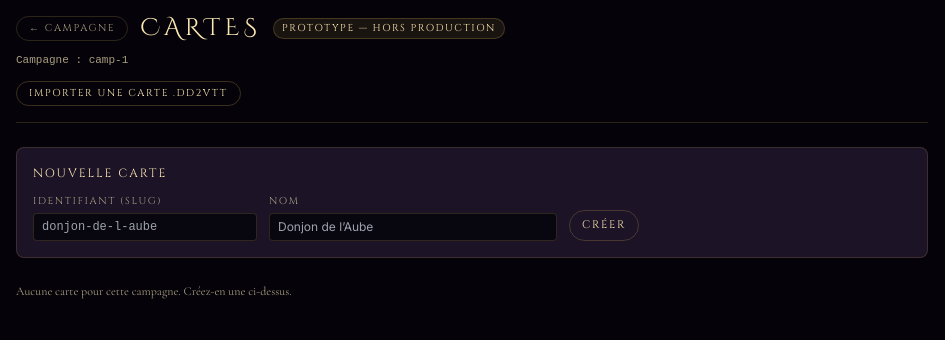
Test case: MapsCloudScreen › surfaces createMap errors in formError
In the field with test id "maps-cloud-create-id": {"x": 145, "y": 226} x1=33 y1=212 x2=257 y2=240, type "ok-slug"
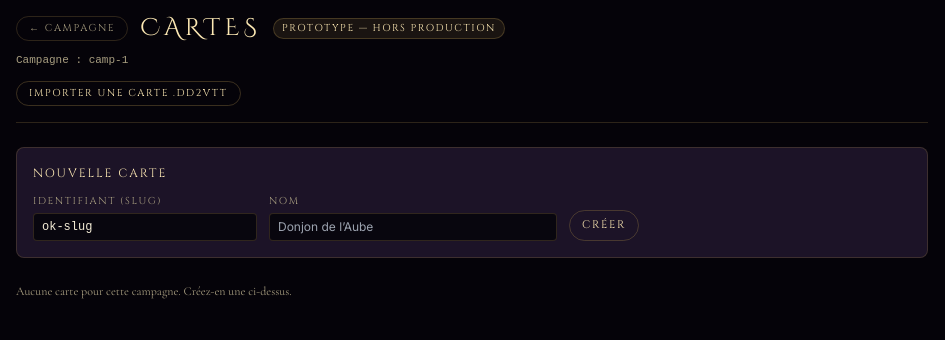
In the field with test id "maps-cloud-create-name": {"x": 413, "y": 226} x1=269 y1=212 x2=557 y2=240, type "Nom"
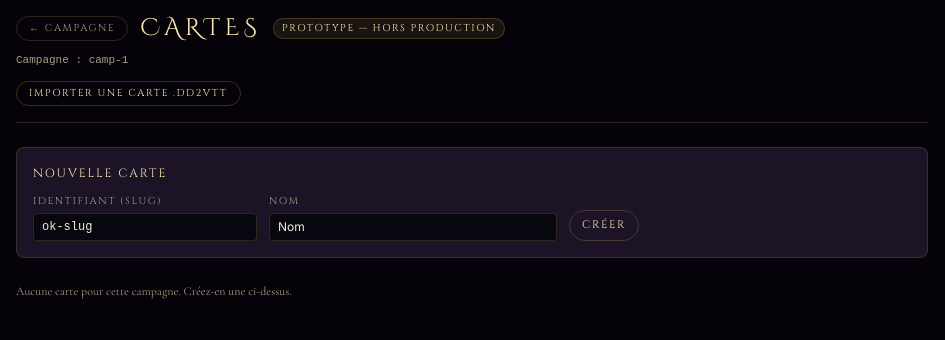
Submit the form with test id "maps-cloud-create-form", box x1=33 y1=194 x2=639 y2=240
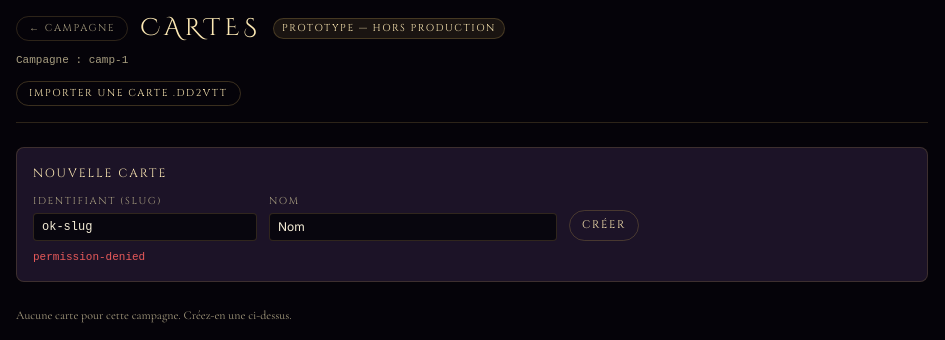
Check: the text with test id "maps-cloud-form-error" reads "permission-denied", box x1=33 y1=250 x2=145 y2=262
